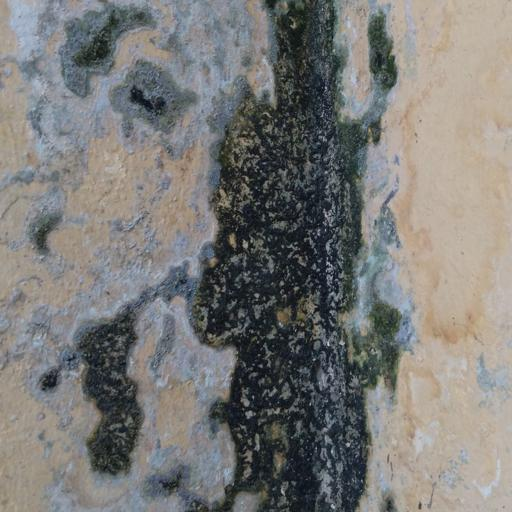algae: (43, 0, 443, 510)
